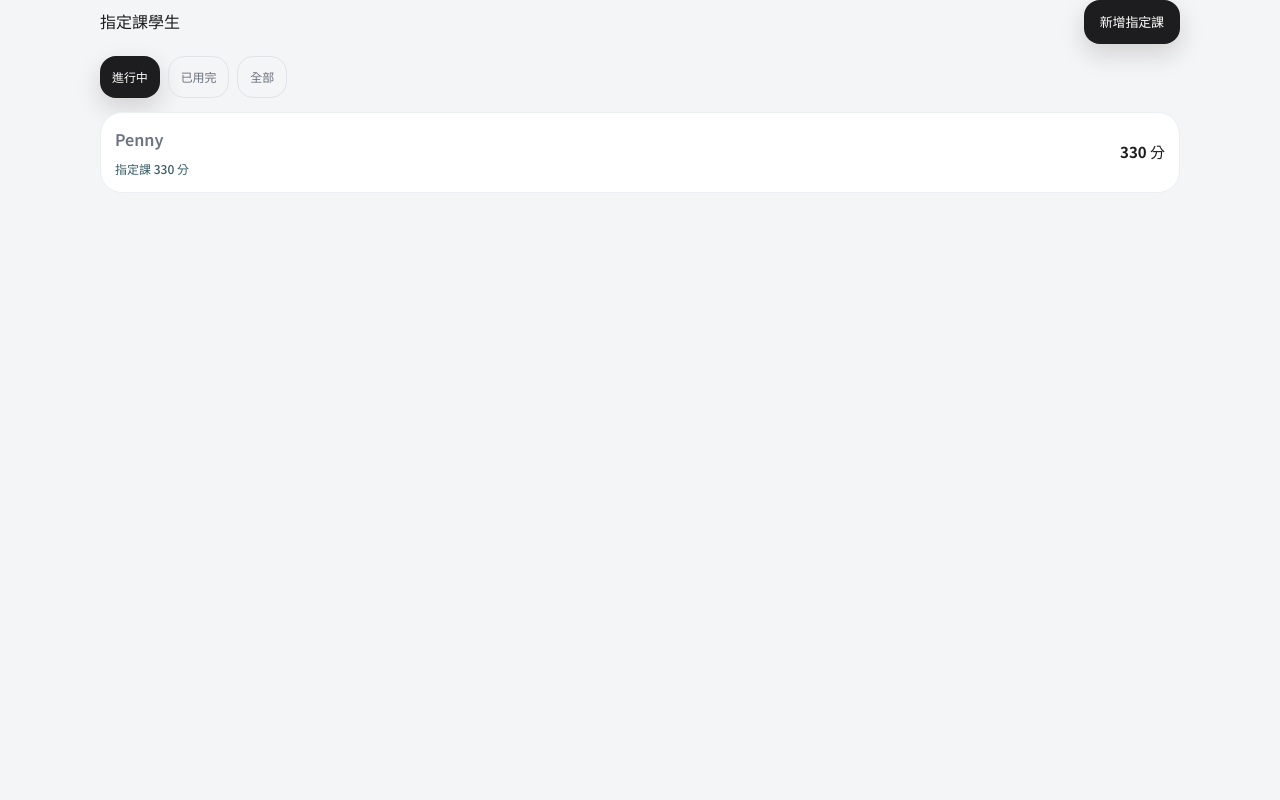
Test case: CoachDesignatedHours › shows a retry action when eligible reports fail to load
Click the button "Penny 指定課 330 分 330 分" at [139, 139], box left=100, top=112, right=1180, bottom=193
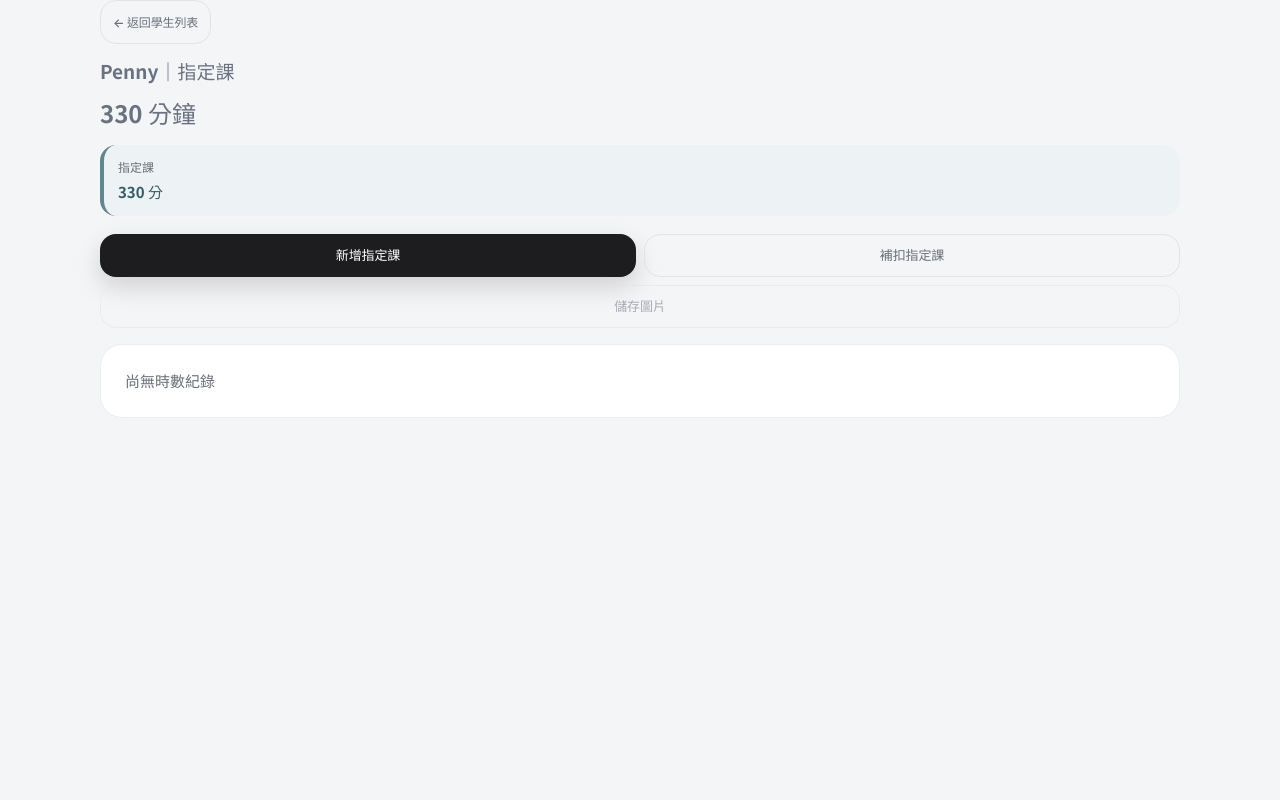
Expected: the text "Penny｜指定課" is shown, left=100, top=57, right=234, bottom=84
Click the button "補扣指定課" at [912, 255], box left=644, top=234, right=1180, bottom=277
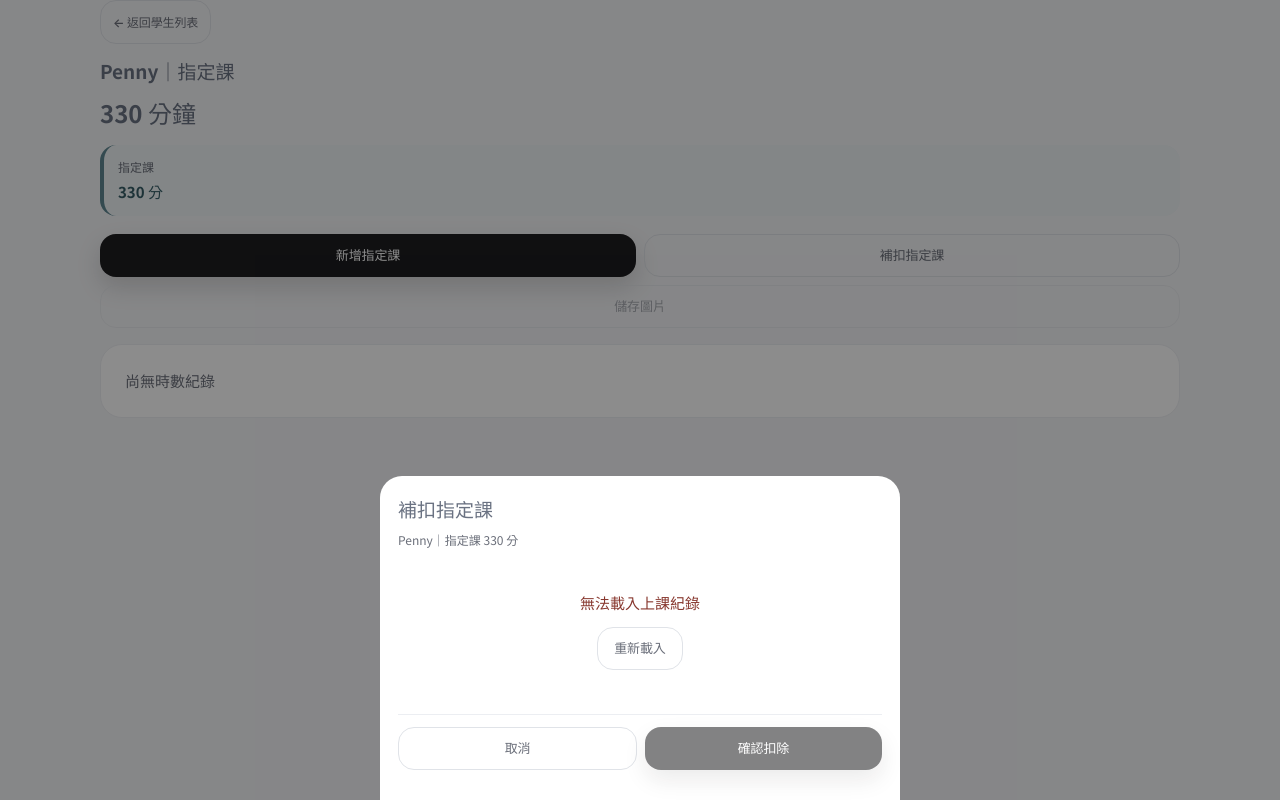
Expected: the message reads "無法載入上課紀錄", left=580, top=592, right=700, bottom=613
Click the button "重新載入" at [640, 649], box left=597, top=627, right=683, bottom=670
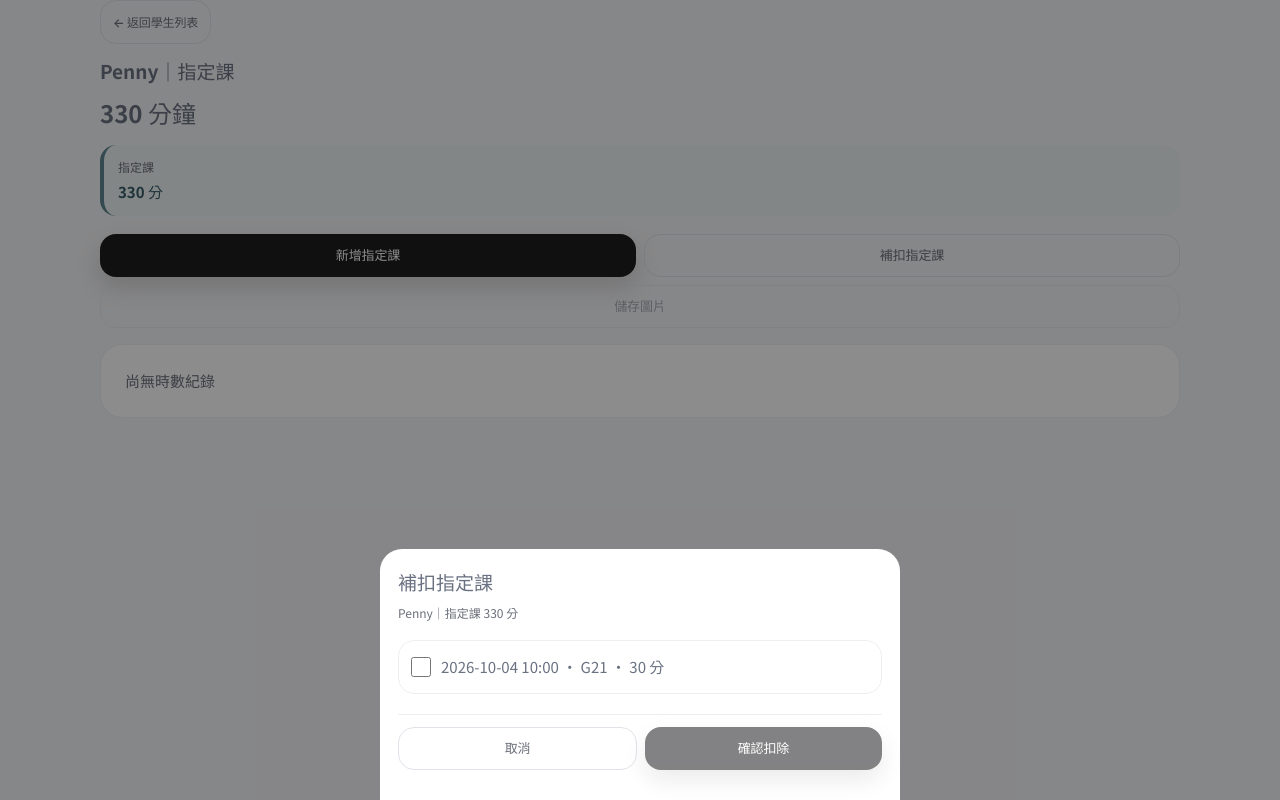
Expected: the text "2026-10-04 10:00 · G21 · 30 分" is shown, left=441, top=656, right=664, bottom=678
